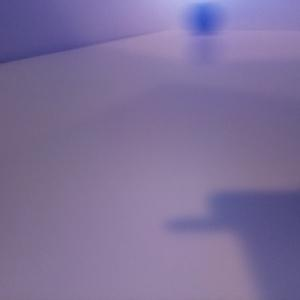dead_ball: (184, 5, 224, 34)
